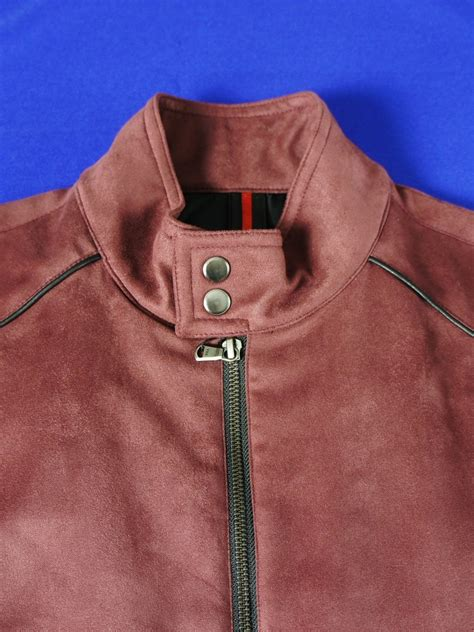gamuza: (1, 91, 474, 632)
